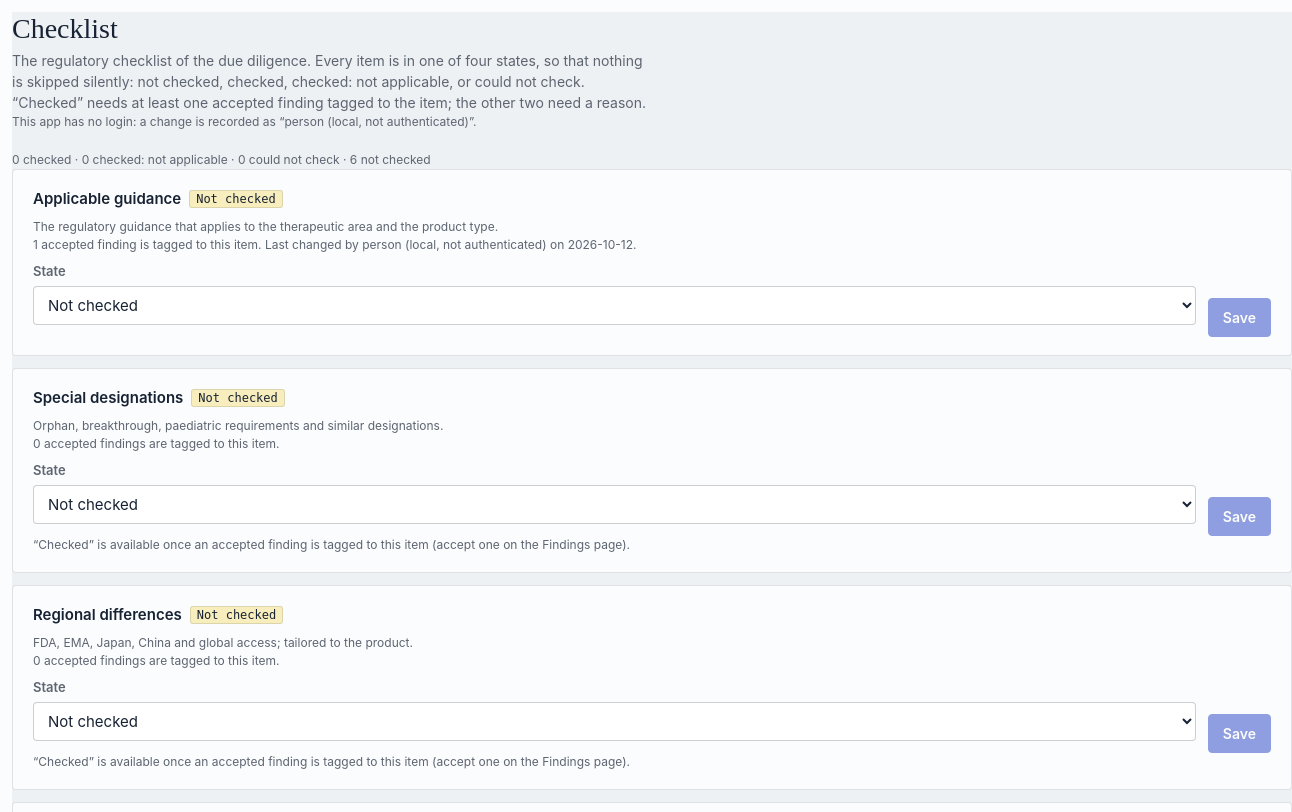
ChecklistPanel › says why a change was not saved, against its own card, with the reference
Step 1. Select "Checked" in the dropdown named "State of Applicable guidance" → [614, 305], box [33,286,1196,325]
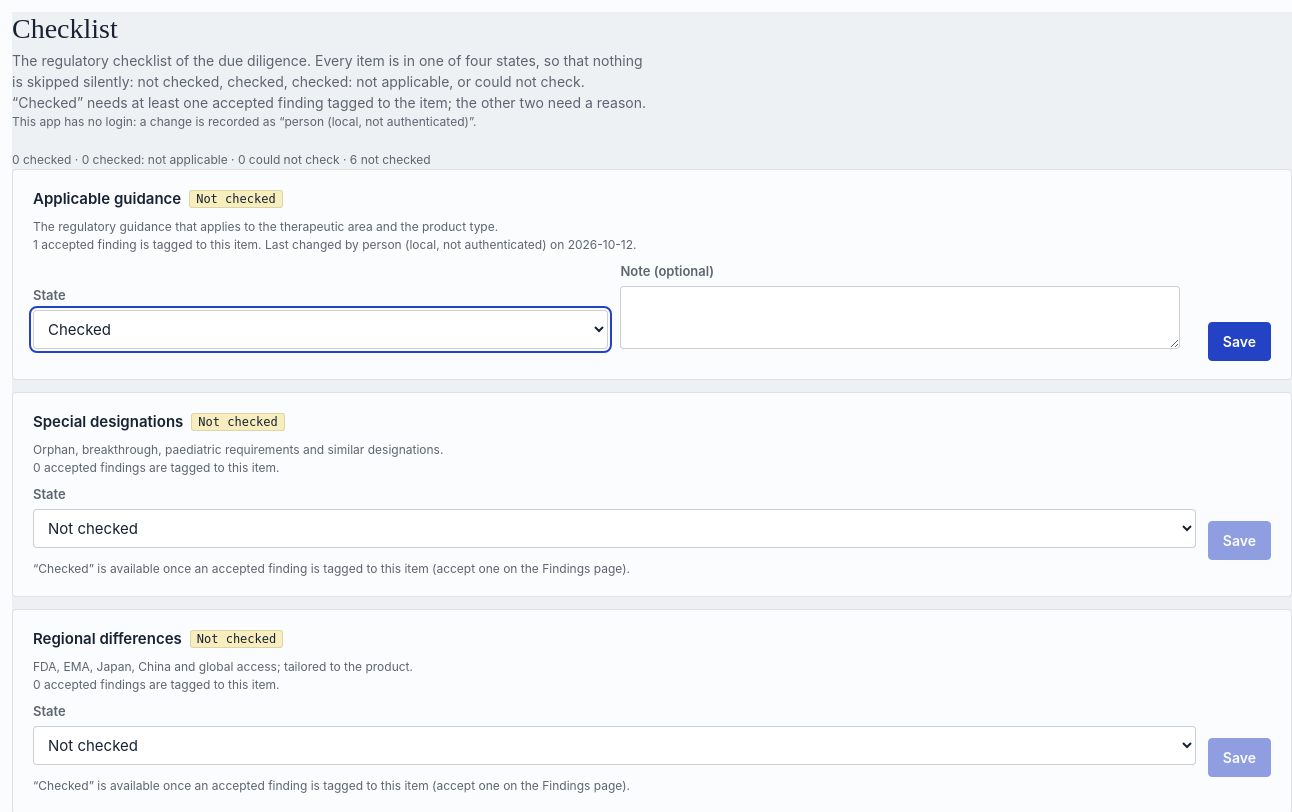
Step 2. Click the button with aria-label "Save Applicable guidance" → [1239, 341], box [1208,322,1271,361]
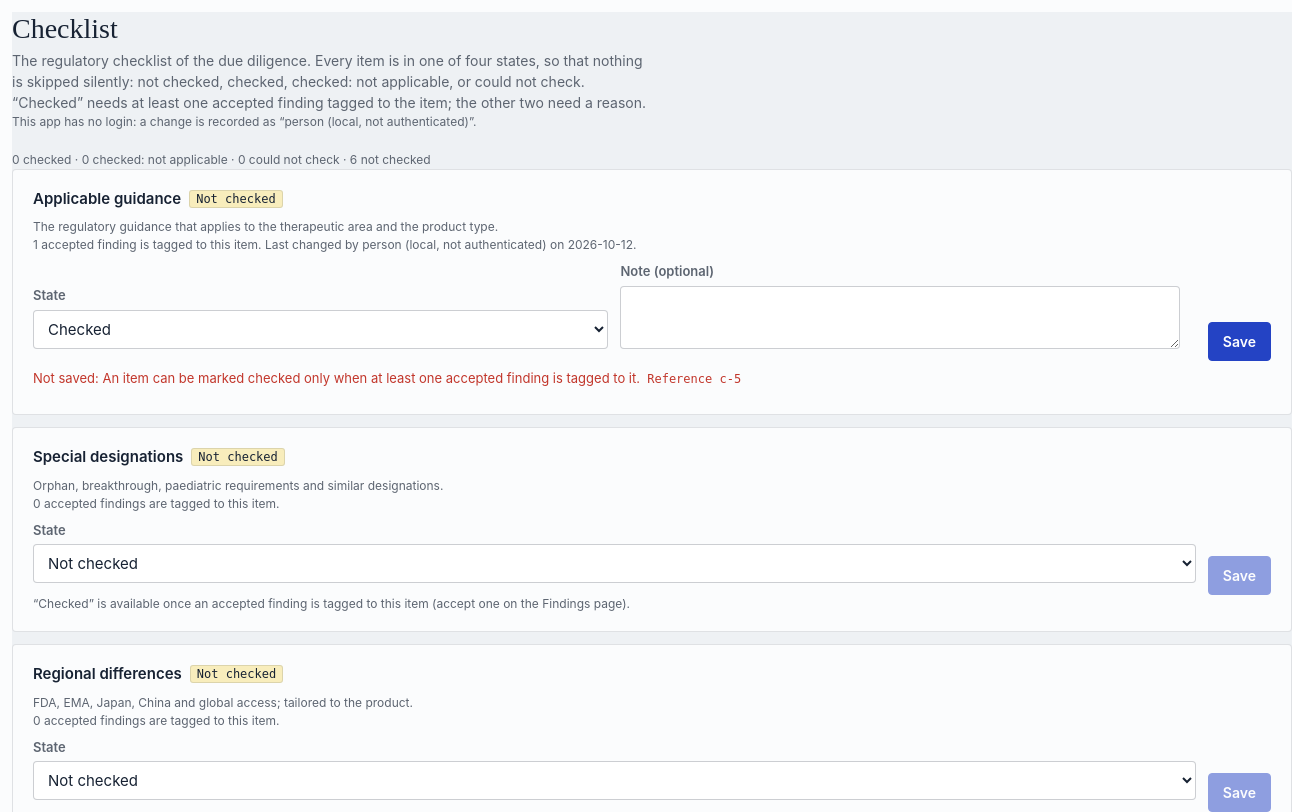
expect the message shows "Not saved: An item can be marked checked only when at least one accepted finding is tagged to it.": met, box [33,370,640,386]
expect the message shows "Reference c-5": met, box [33,370,741,386]
